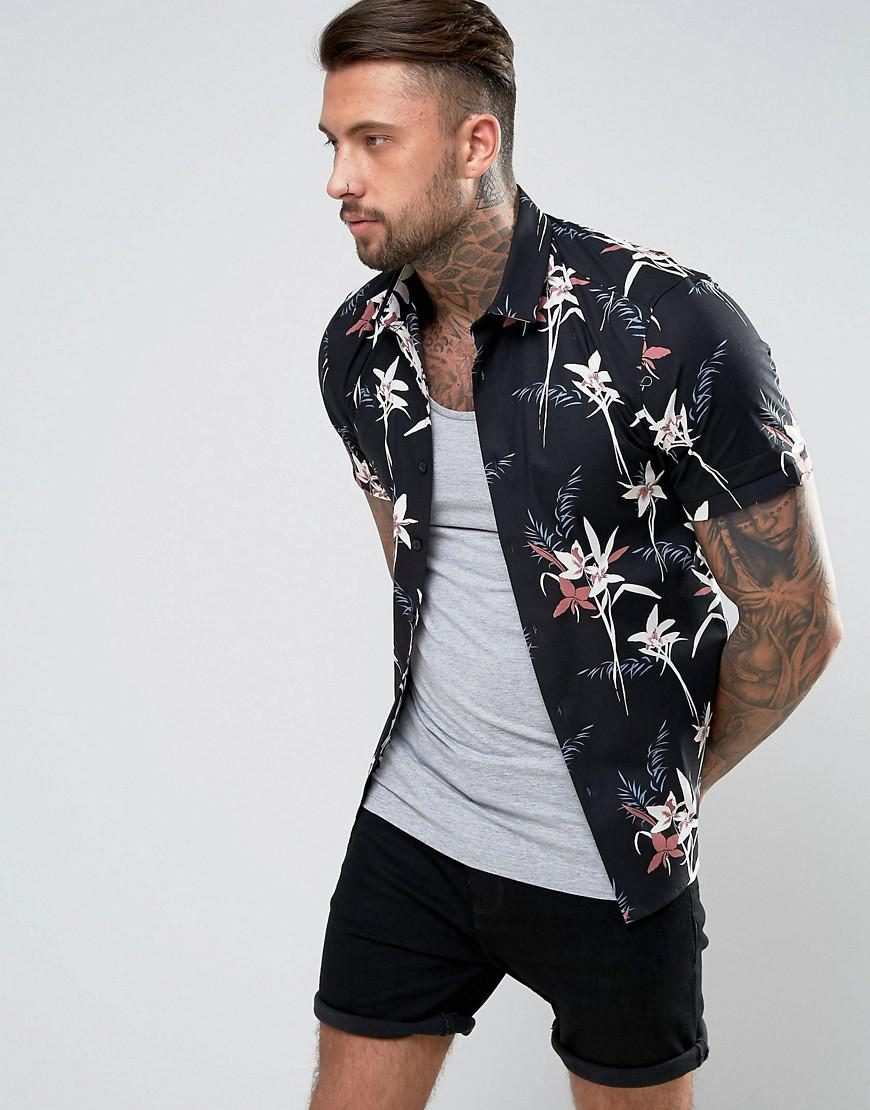teeshirt: (303, 186, 830, 949)
